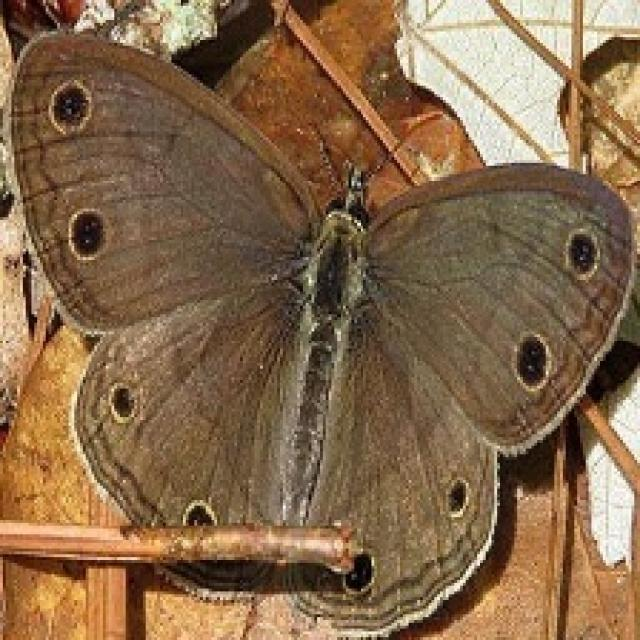butterfly: (6, 23, 634, 637)
